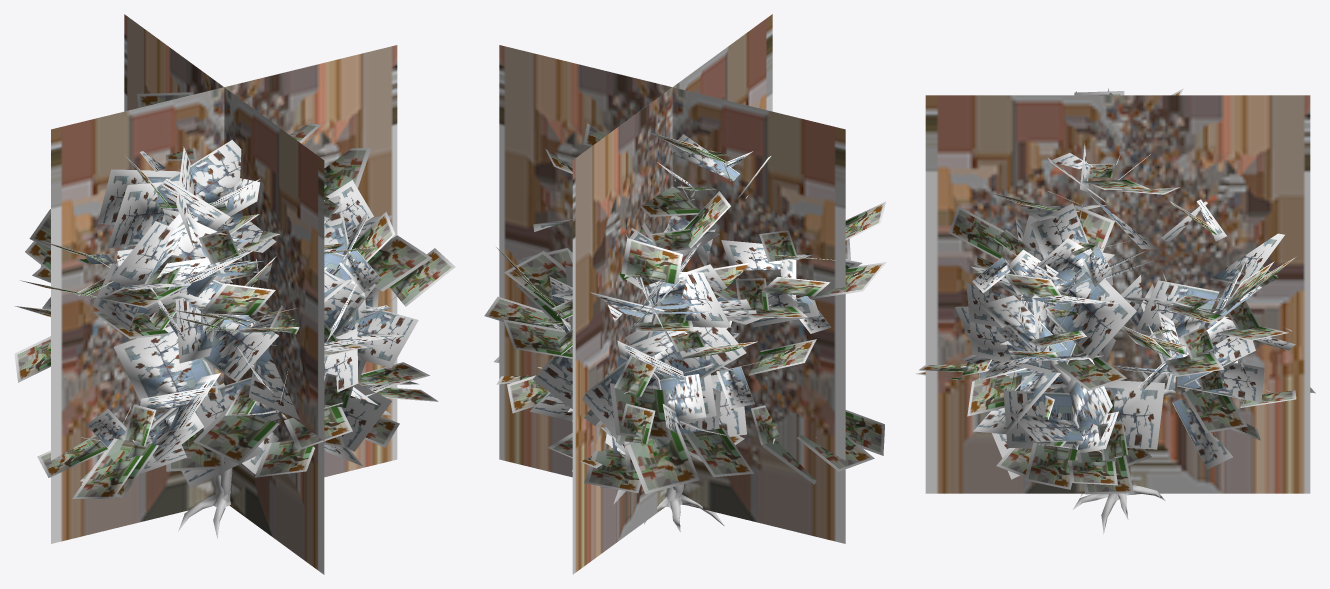
The model's file is Tree-Maple3D.fbx.
The picture shows the model from 3 angles, left to right: view 1: azimuth 30°, elevation 25°; view 2: azimuth 150°, elevation 25°; view 3: azimuth 270°, elevation 25°; orthographic projection. The views are drawn at different scales.
Parts seen in each view (by area): view 1: Tree-Maple3D_LOD0, Billboard-MapleD; view 2: Billboard-MapleD, Tree-Maple3D_LOD0; view 3: Billboard-MapleD, Tree-Maple3D_LOD0.
Boxes of the visible parts, x1,y1,x2,y2 form: Tree-Maple3D_LOD0: (14,92,455,538); Billboard-MapleD: (51,14,397,574); Billboard-MapleD: (499,14,845,574); Tree-Maple3D_LOD0: (484,123,886,532); Billboard-MapleD: (925,95,1310,493); Tree-Maple3D_LOD0: (915,88,1315,534).
Size of what is drawn, in the model's own units: 3009 by 3297 by 2860.
